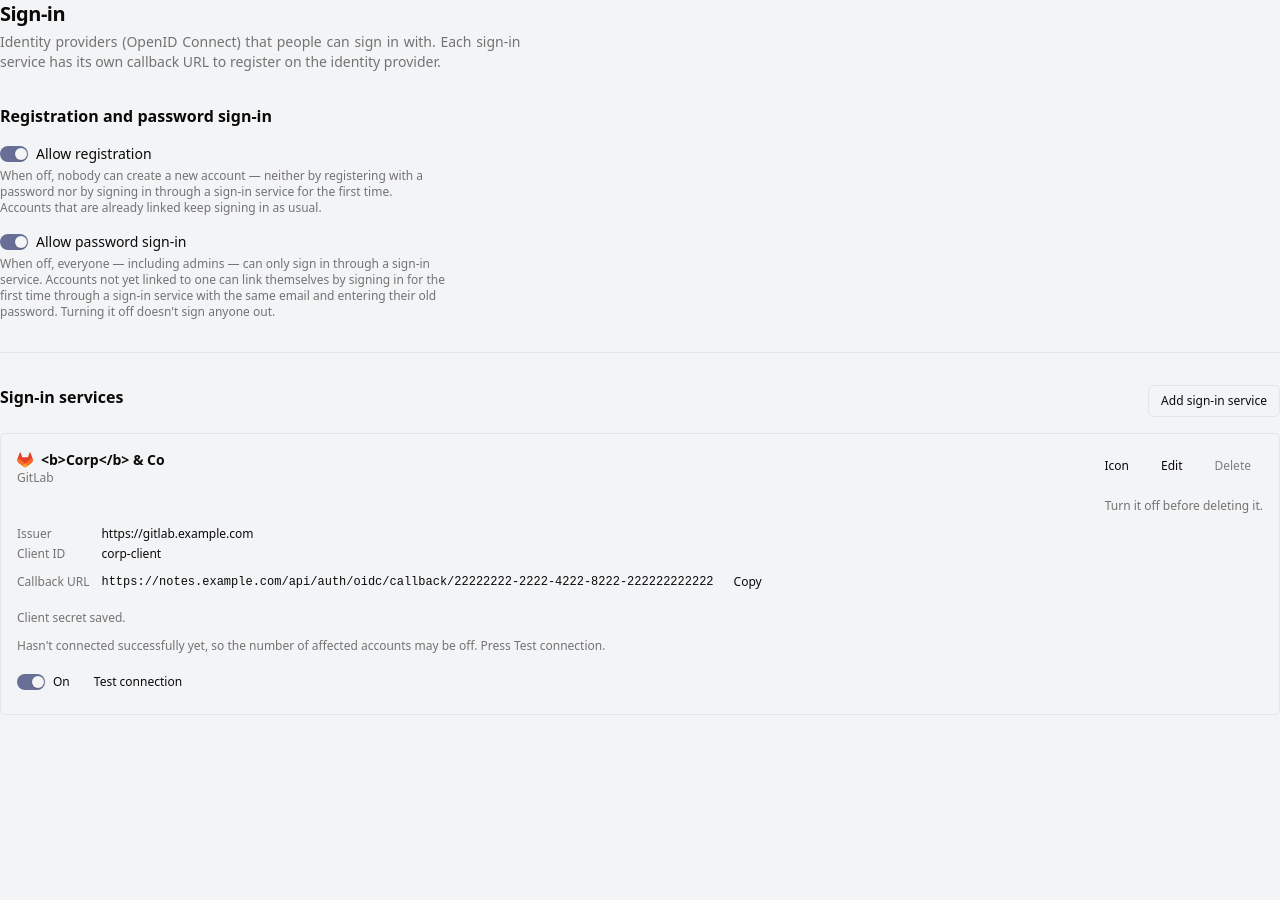
Test case: SettingsAuthSection（#187 §9.4 /admin/auth） › 停用 dialog 按取消 → 不送 PATCH、開關仍開
The image size is (1280, 900).
Click the switch named "On" below "Client secret saved.". click: (31, 682)
box: [17,674,45,690]
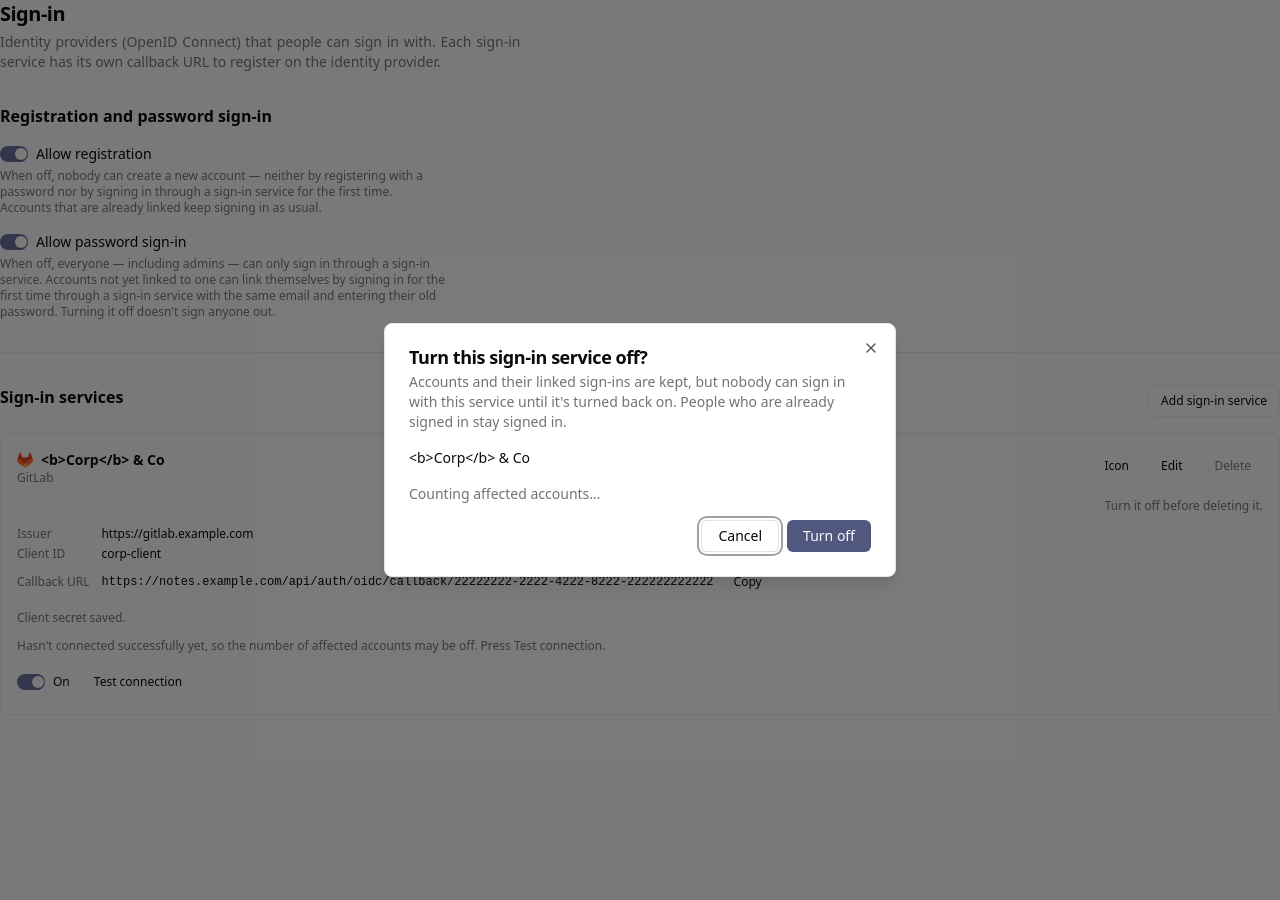
Click the button "Cancel". click: (740, 536)
box: [702,520,779,552]
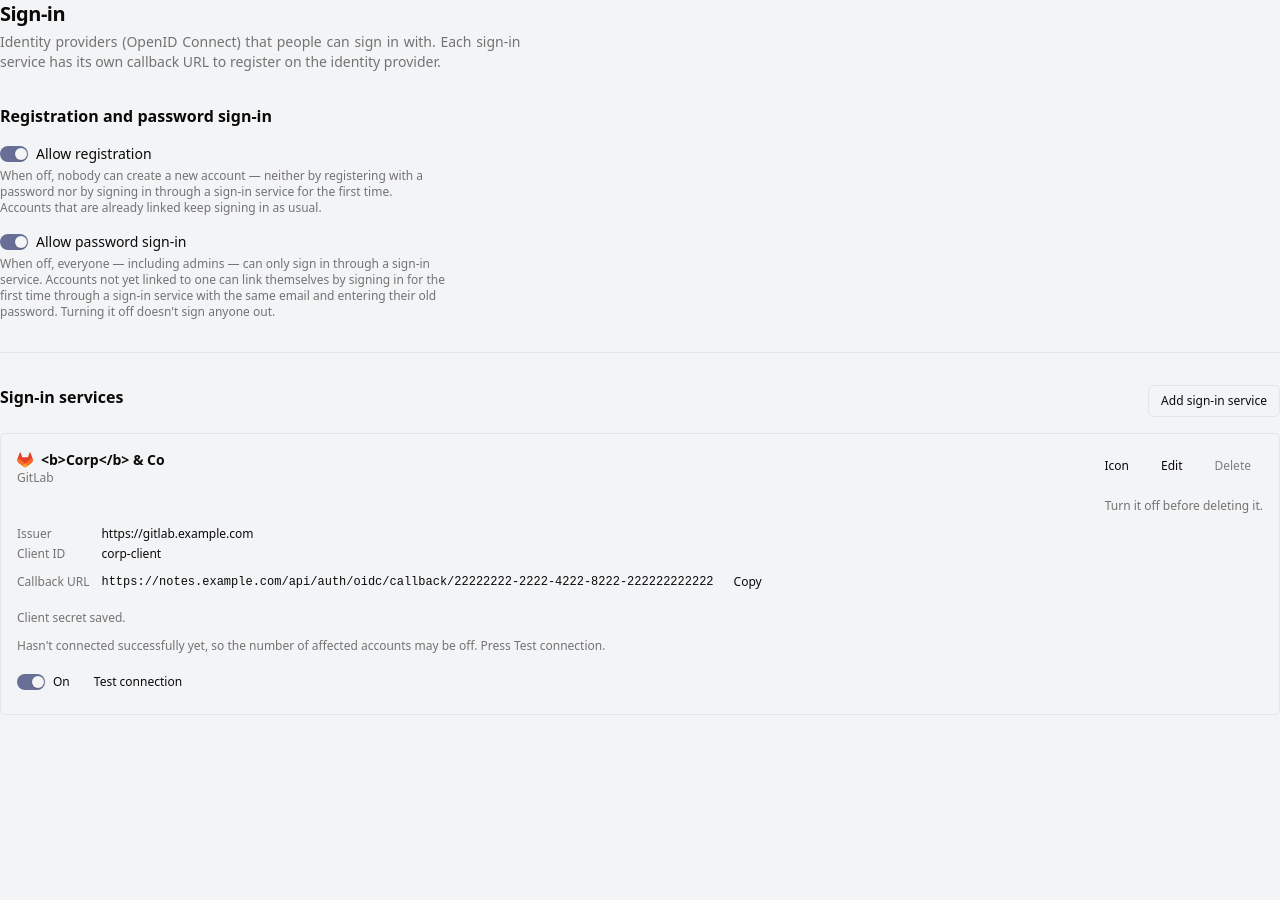
Expected: the dialog is gone
